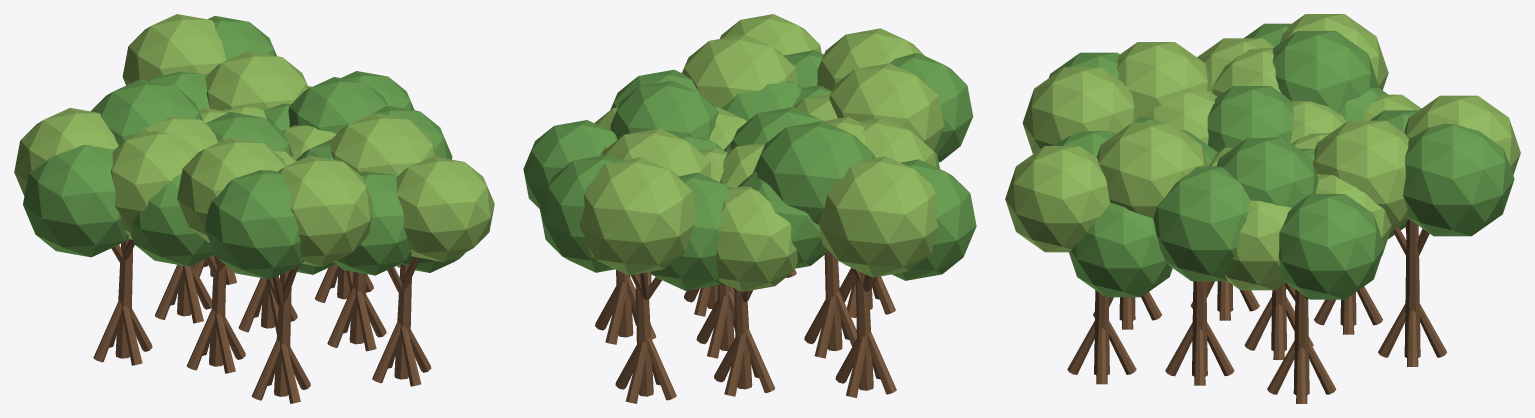
File: FEATURE_JUNGLE_v01.fbx
The picture shows the model from 3 angles, left to right: view 1: azimuth 30°, elevation 25°; view 2: azimuth 150°, elevation 25°; view 3: azimuth 270°, elevation 25°; orthographic projection. The views are drawn at different scales.
Visible parts, largest first — view 1: Broadleaf_crown.170, Broadleaf_crown.162, Broadleaf_crown.175, Broadleaf_crown.163, Broadleaf_crown.177, Broadleaf_crown.171, Broadleaf_crown.161, Broadleaf_crown.155, Broadleaf_crown.179, Broadleaf_crown.174, Broadleaf_crown.150, Broadleaf_crown.168 (+31 smaller); view 2: Broadleaf_crown.169, Broadleaf_crown.177, Broadleaf_crown.168, Broadleaf_crown.157, Broadleaf_crown.161, Broadleaf_crown.155, Broadleaf_crown.166, Broadleaf_crown.176, Broadleaf_crown.178, Broadleaf_crown.170, Broadleaf_crown.164, Broadleaf_crown.162 (+37 smaller); view 3: Broadleaf_crown.176, Broadleaf_crown.164, Broadleaf_crown.175, Broadleaf_crown.152, Broadleaf_crown.155, Broadleaf_crown.163, Broadleaf_crown.172, Broadleaf_crown.179, Broadleaf_crown.168, Broadleaf_crown.166, Broadleaf_crown.161, Broadleaf_crown.148 (+33 smaller).
Boxes of the visible parts, x1,y1,x2,y2 form: Broadleaf_crown.170: (23, 145, 128, 257); Broadleaf_crown.162: (204, 170, 303, 279); Broadleaf_crown.175: (396, 156, 494, 262); Broadleaf_crown.163: (278, 155, 372, 266); Broadleaf_crown.177: (122, 14, 225, 85); Broadleaf_crown.171: (111, 131, 199, 239); Broadleaf_crown.161: (177, 137, 285, 242); Broadleaf_crown.155: (327, 113, 437, 176); Broadleaf_crown.179: (205, 51, 308, 110); Broadleaf_crown.174: (333, 171, 411, 275); Broadleaf_crown.150: (130, 173, 214, 266); Broadleaf_crown.168: (91, 79, 202, 145); Broadleaf_crown.169: (818, 156, 938, 277); Broadleaf_crown.177: (580, 157, 696, 275); Broadleaf_crown.168: (753, 121, 875, 224); Broadleaf_crown.157: (716, 186, 797, 291); Broadleaf_crown.161: (829, 63, 944, 150); Broadleaf_crown.155: (682, 34, 797, 108); Broadleaf_crown.166: (610, 80, 718, 139); Broadleaf_crown.176: (539, 154, 621, 272); Broadleaf_crown.178: (650, 172, 730, 290); Broadleaf_crown.170: (892, 159, 976, 280); Broadleaf_crown.164: (523, 120, 617, 208); Broadleaf_crown.162: (889, 53, 973, 162); Broadleaf_crown.176: (1403, 123, 1514, 236); Broadleaf_crown.164: (1279, 194, 1384, 299); Broadleaf_crown.175: (1005, 146, 1110, 252); Broadleaf_crown.152: (1153, 166, 1250, 281); Broadleaf_crown.155: (1096, 122, 1208, 218); Broadleaf_crown.163: (1022, 67, 1139, 153); Broadleaf_crown.172: (1069, 202, 1172, 297); Broadleaf_crown.179: (1313, 120, 1408, 232); Broadleaf_crown.168: (1272, 31, 1379, 113); Broadleaf_crown.166: (1217, 138, 1318, 207); Broadleaf_crown.161: (1117, 42, 1212, 117); Broadleaf_crown.148: (1207, 86, 1294, 151).
Size of the model in its own units: 146 by 88.43 by 158.
